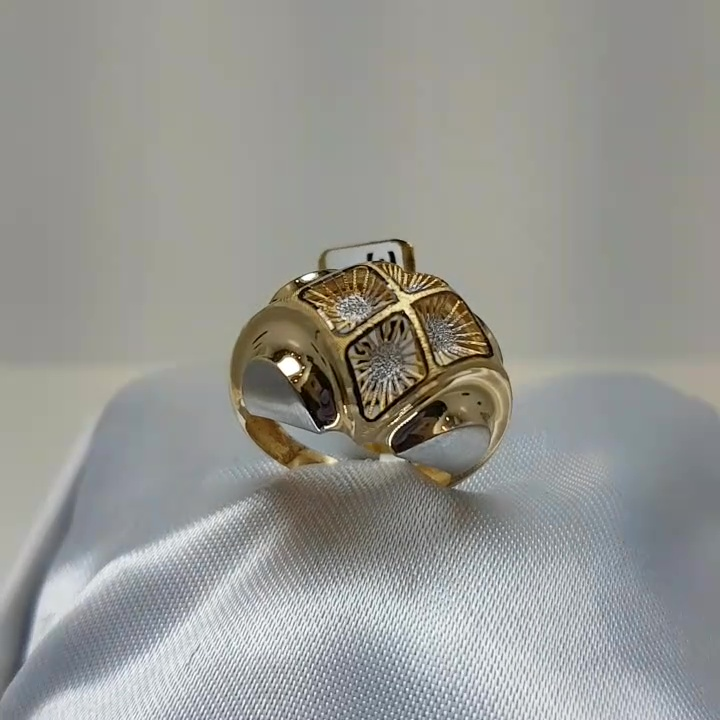Ring 2: (188, 223, 526, 522)
